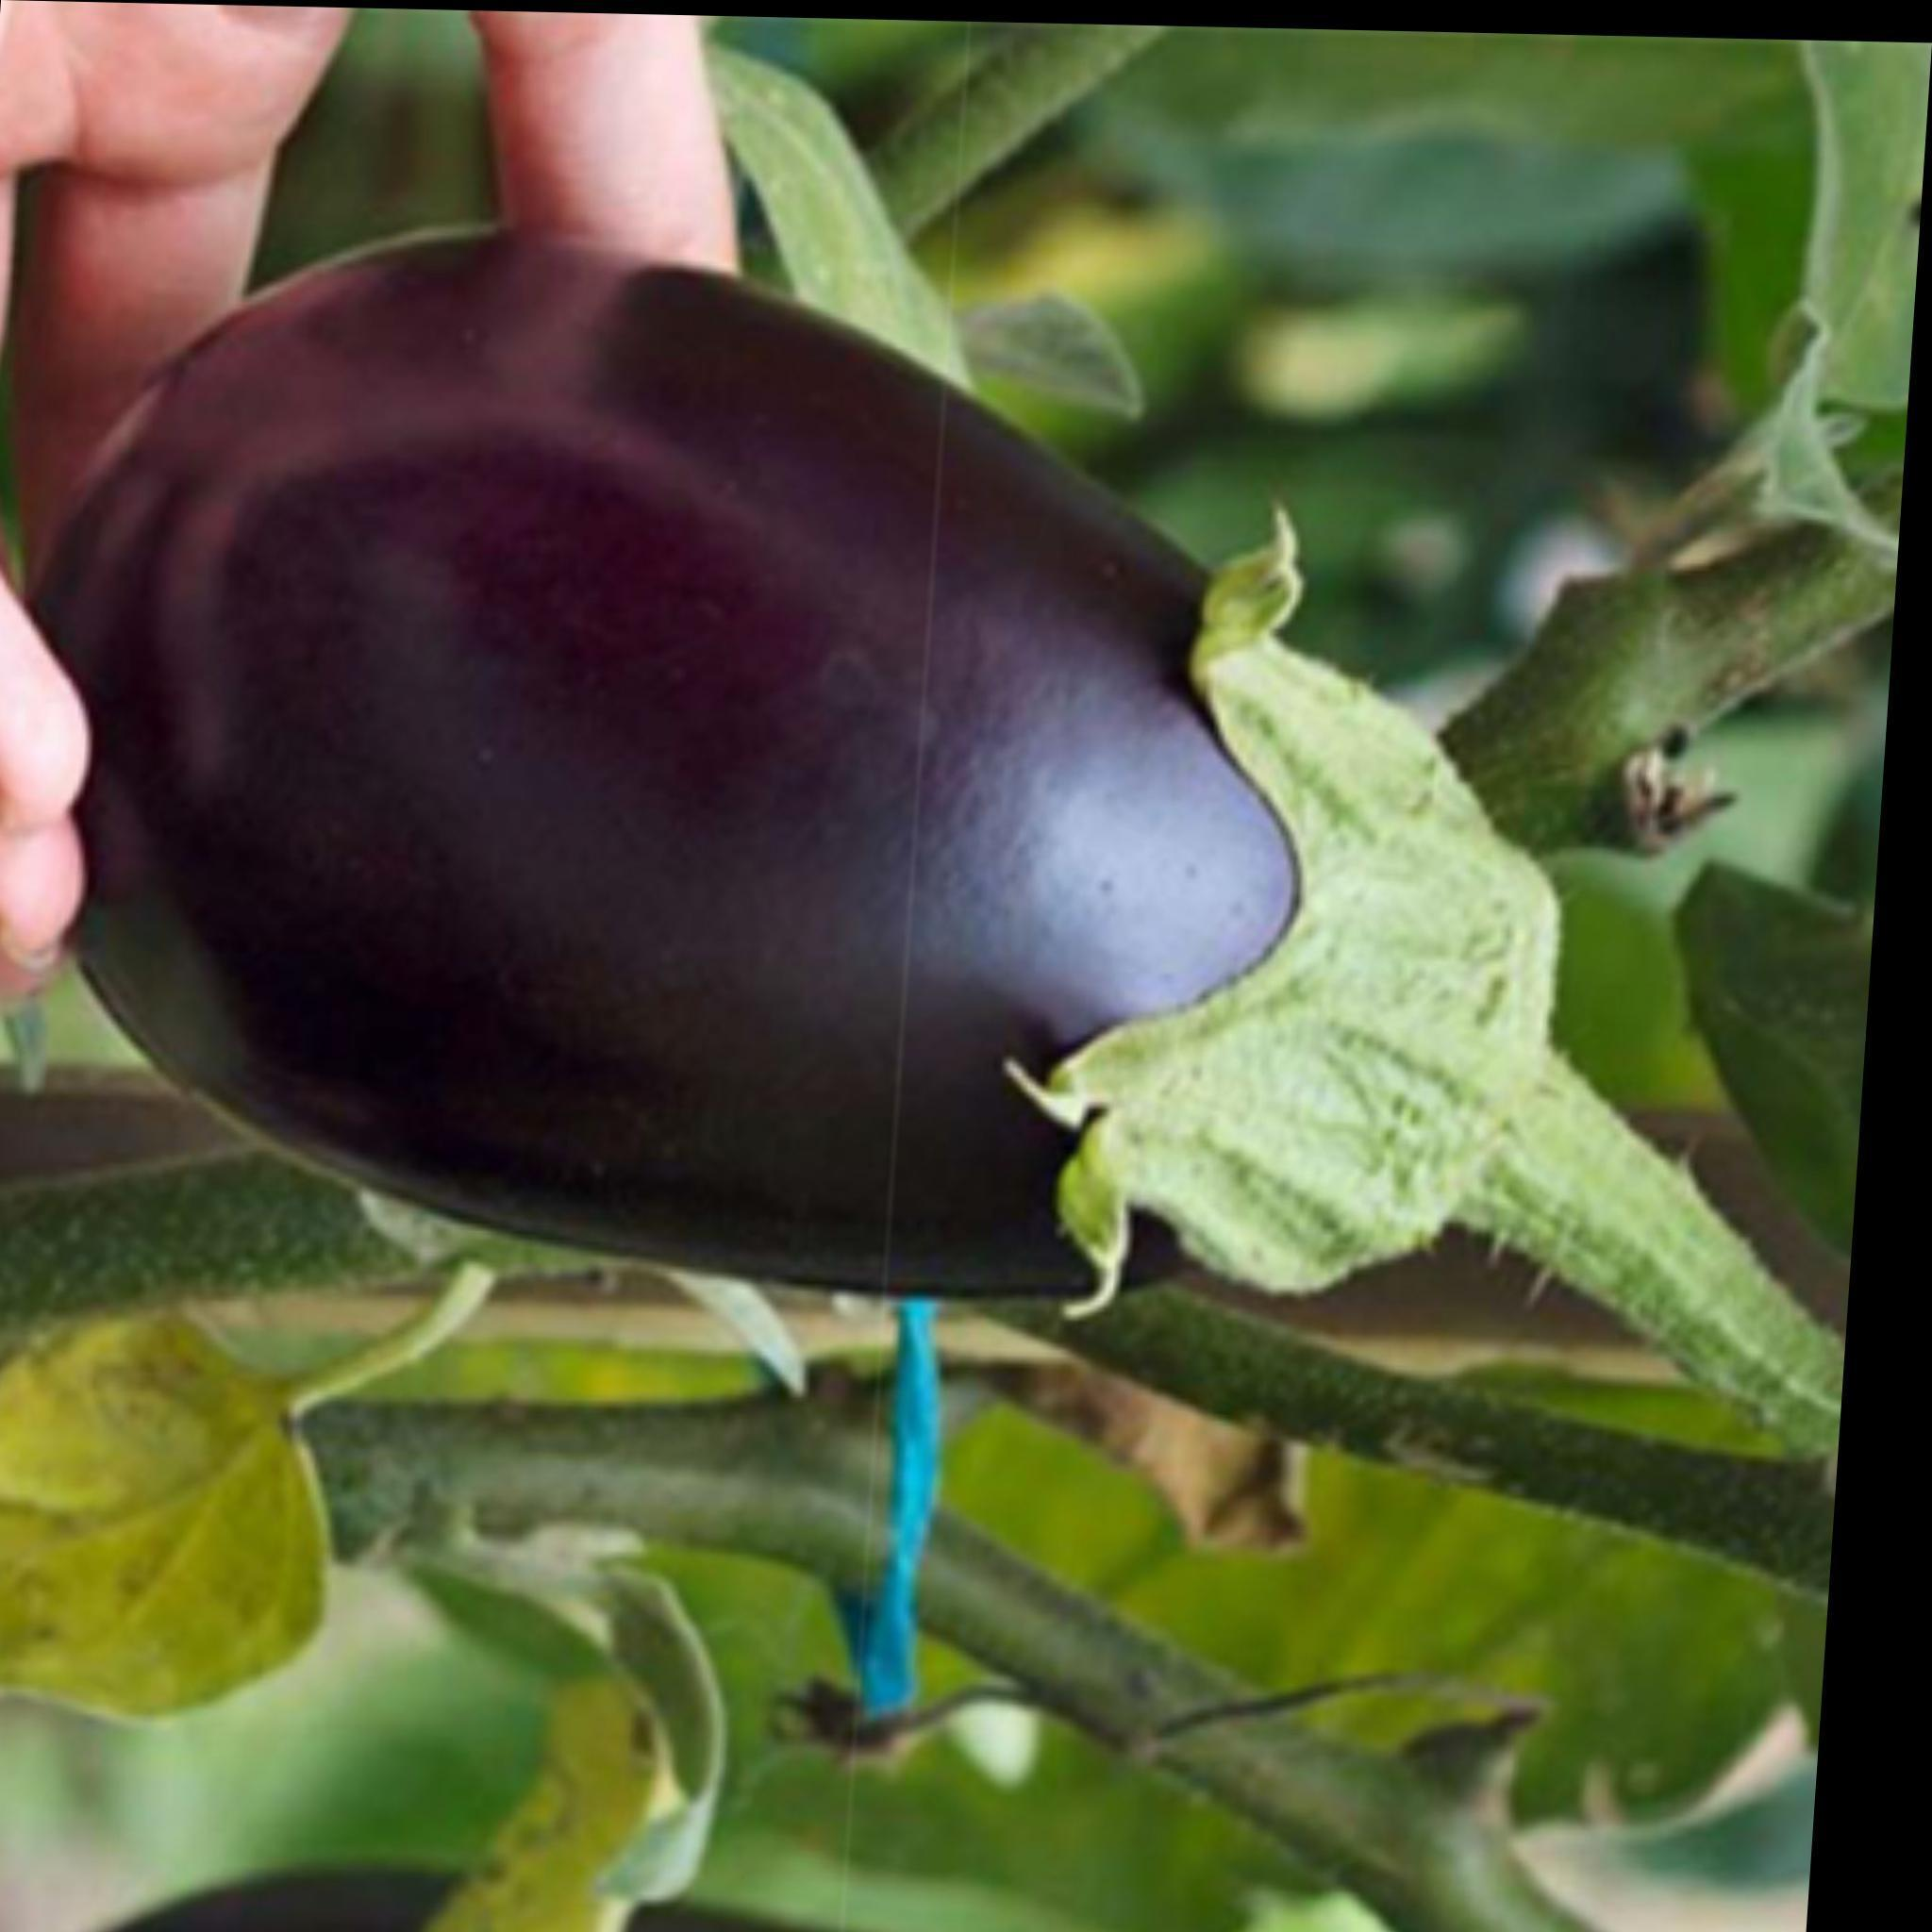eggplant: (0, 188, 1851, 1575)
